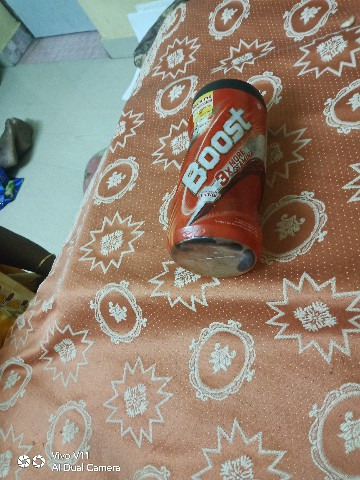boost big: (157, 60, 274, 278)
